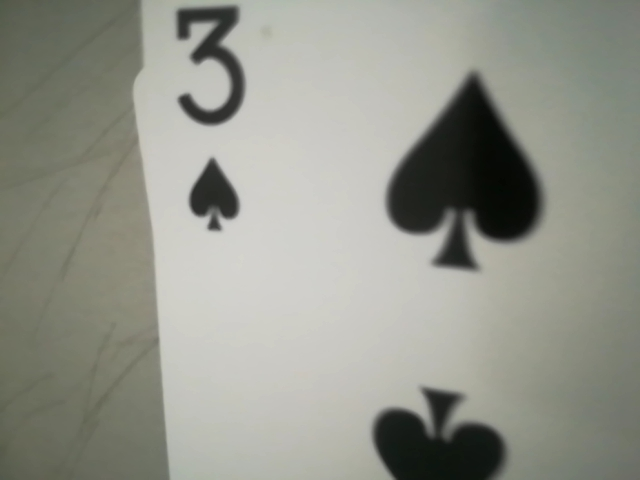ht 3: (158, 7, 263, 255)
